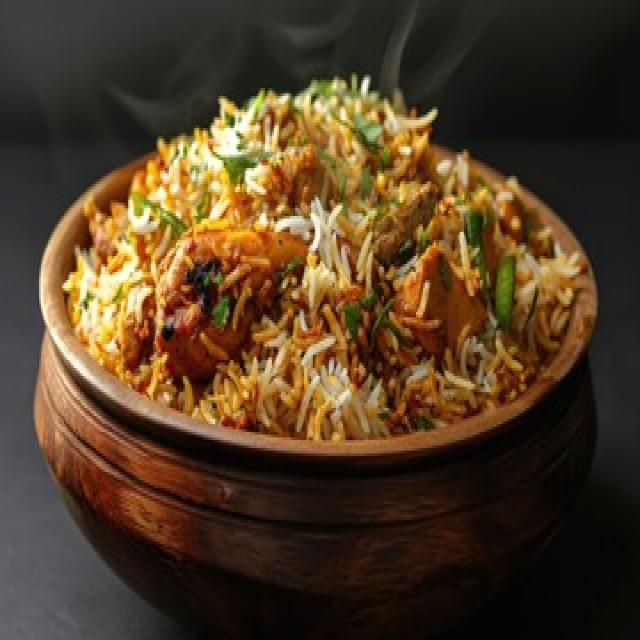BIRIYANI: (62, 96, 590, 443)
